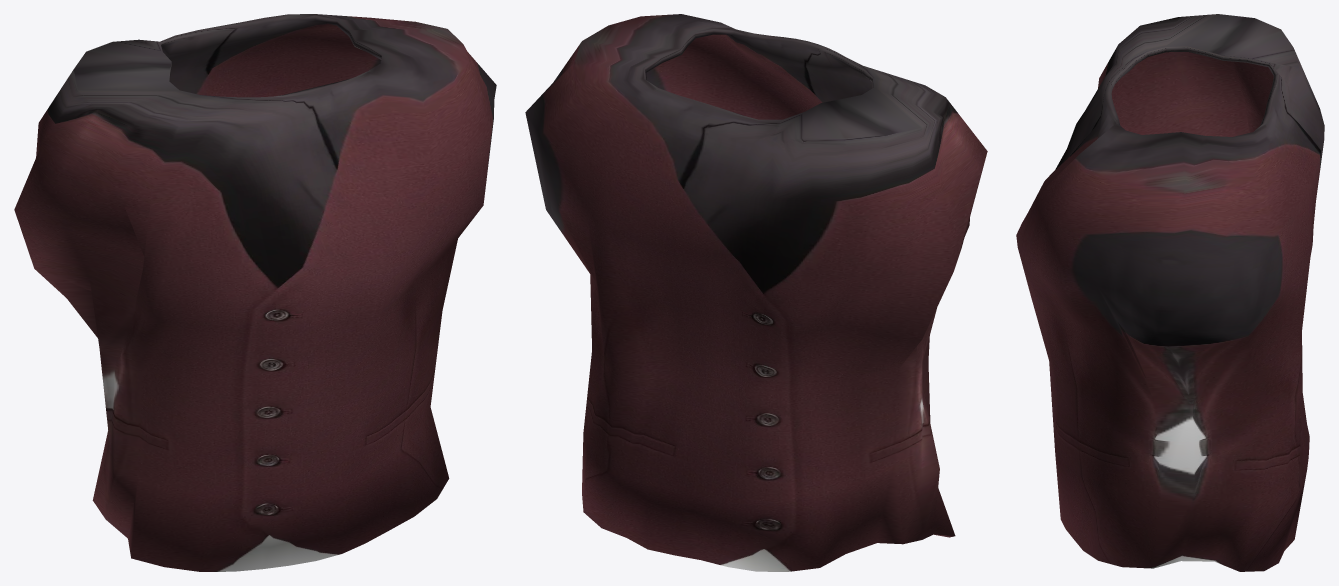
File: e08eddd6-a860-428e-977d-fb03b655b091.glb
The picture shows the model from 3 angles, left to right: view 1: azimuth 30°, elevation 25°; view 2: azimuth 150°, elevation 25°; view 3: azimuth 270°, elevation 25°; orthographic projection. The views are drawn at different scales.
Parts seen in each view (by area): view 1: garment; view 2: garment; view 3: garment.
Part boxes in pixels (x1,y1,x2,y2): garment: (14,14,496,571); garment: (525,14,987,571); garment: (1016,14,1324,571).
Bounding box in the file's own units: 0.5485 × 0.5401 × 0.3526.
1 material, 1 textured.
